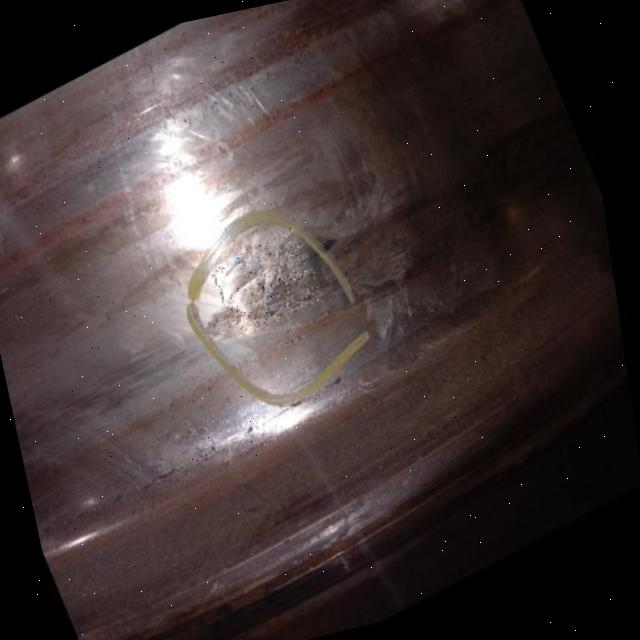Rollerpile: (203, 222, 339, 349)
